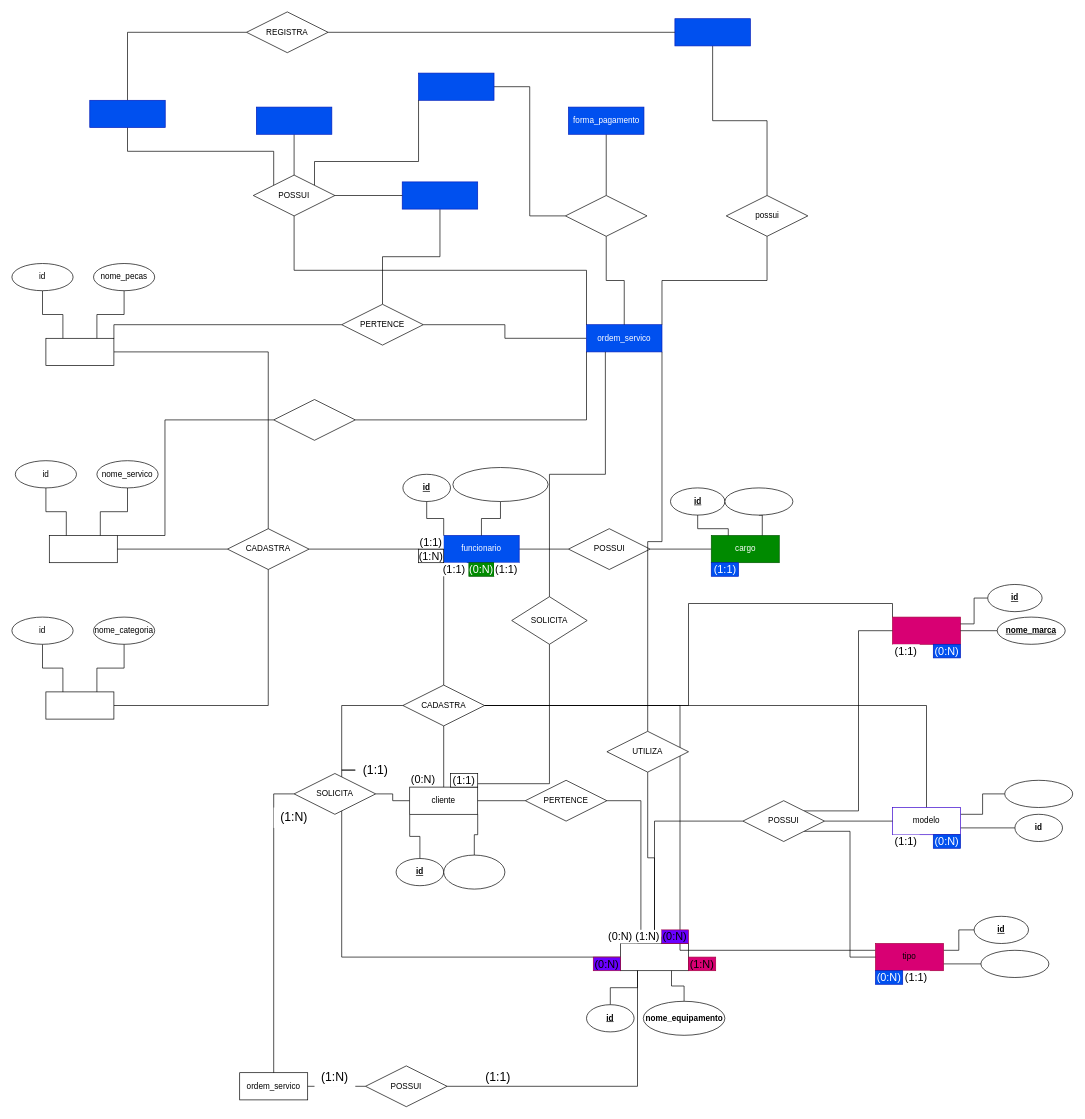
The diagram is 1085 pixels wide and 1119 high, and some of its shapes have lost their labels. Each missing label, with the box of its shape:
categoria: (45, 691, 114, 719)
CONTÉM: (273, 399, 355, 440)
equipamento: (620, 943, 688, 971)
marca: (892, 616, 961, 644)
nome_cargo: (724, 487, 793, 515)
nome_cliente: (443, 854, 505, 889)
nome_funcionario: (452, 467, 548, 502)
nome_modelo: (1004, 780, 1073, 808)
nome_tipo: (980, 950, 1049, 978)
ordem: (256, 106, 332, 134)
ordem_pagamento: (418, 72, 494, 100)
ordem_peca: (402, 181, 478, 209)
ordem_situacao: (89, 100, 165, 128)
PAGA COM: (565, 195, 647, 236)
pecas: (45, 338, 114, 366)
servico: (49, 535, 117, 563)
situacao_os: (674, 18, 750, 46)
